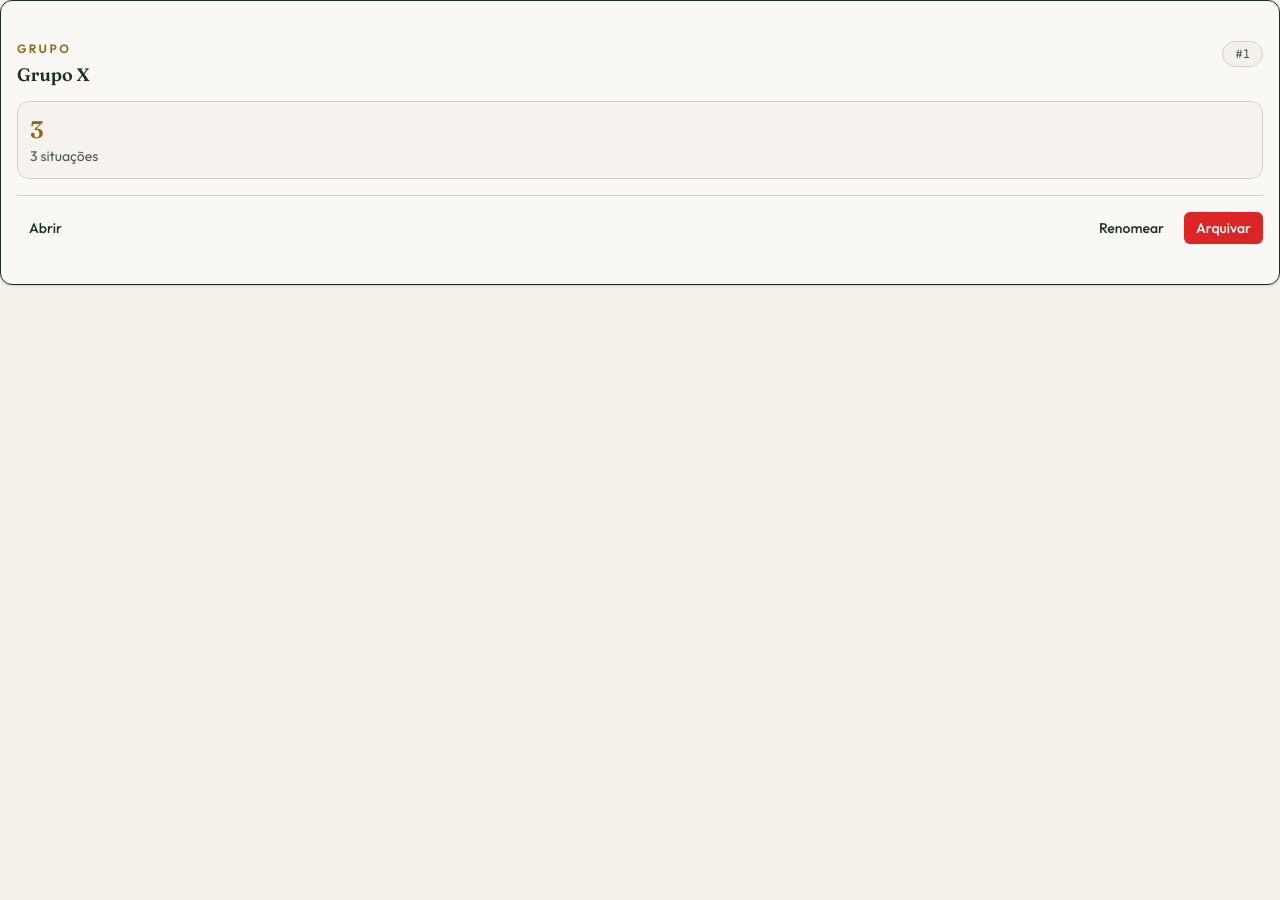
Test: GroupCard › shows archive error when archive API rejects
Click the button with test id "group-archive-btn": (1224, 228) [1184, 212, 1263, 244]
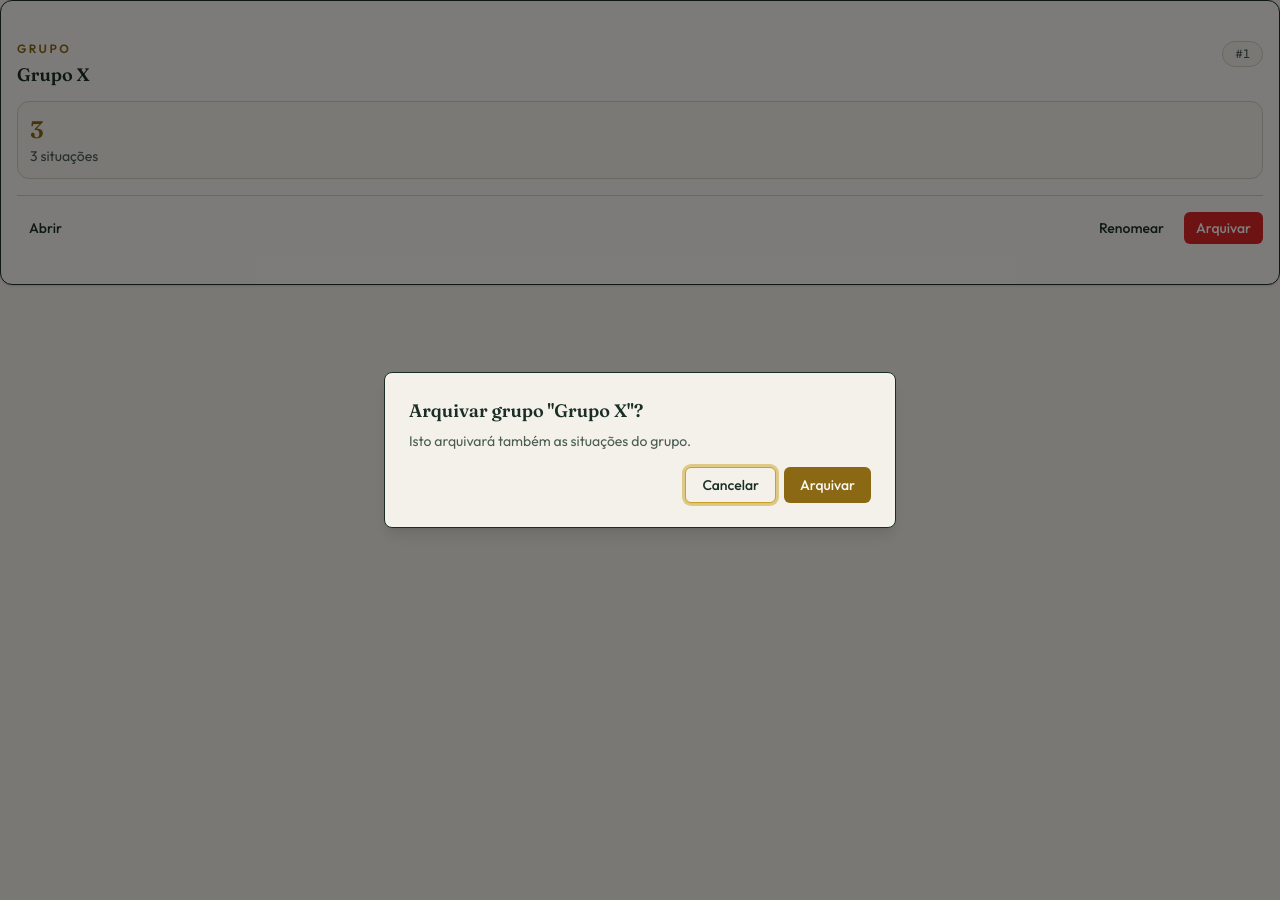
Click the button "Arquivar": (828, 485) [784, 467, 871, 503]
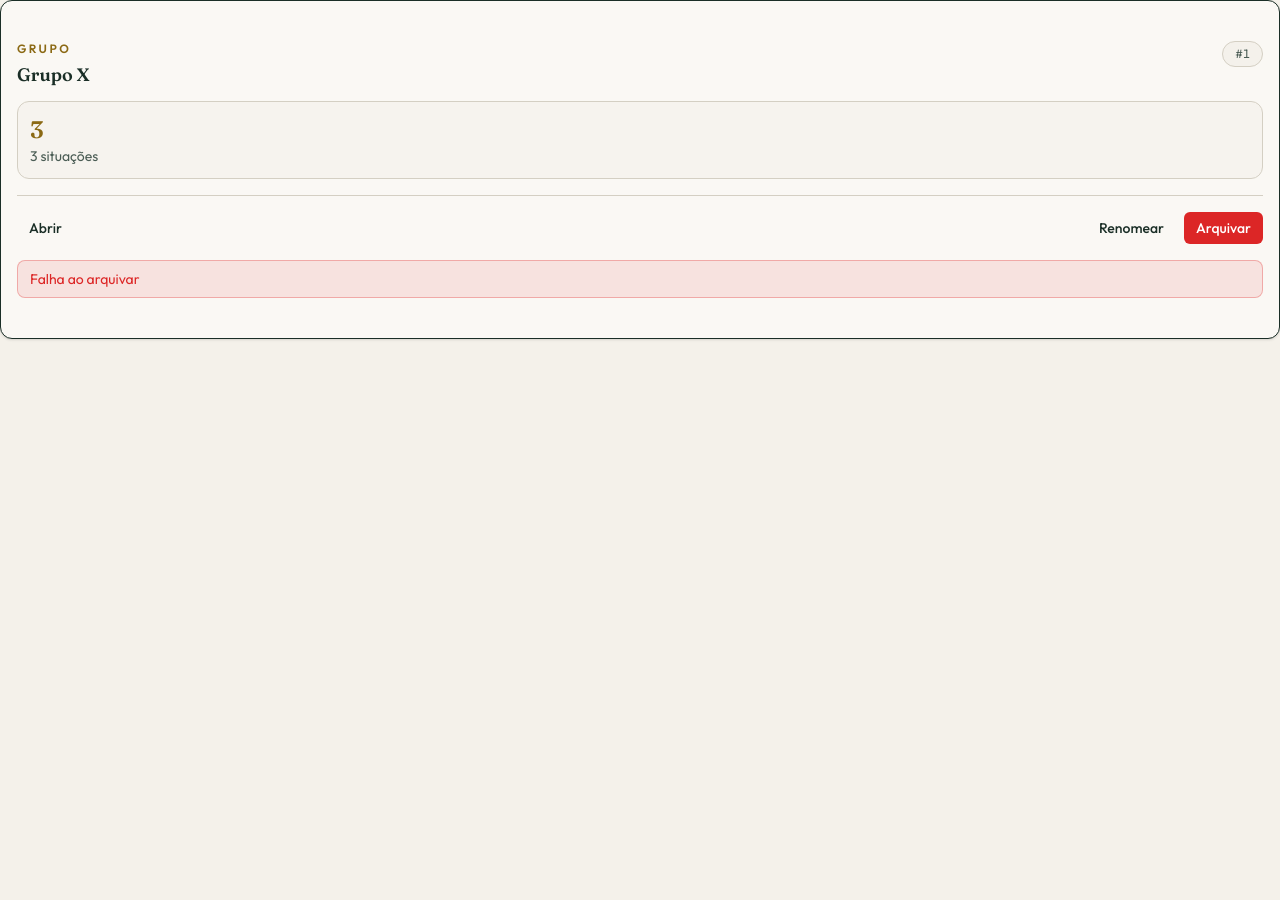
Expected: the text "Falha ao arquivar" is shown, [17, 260, 1263, 298]
